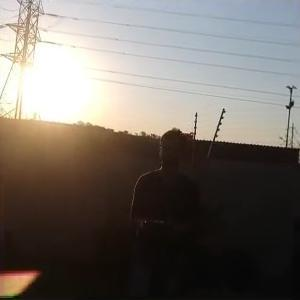follow: (120, 121, 203, 298)
